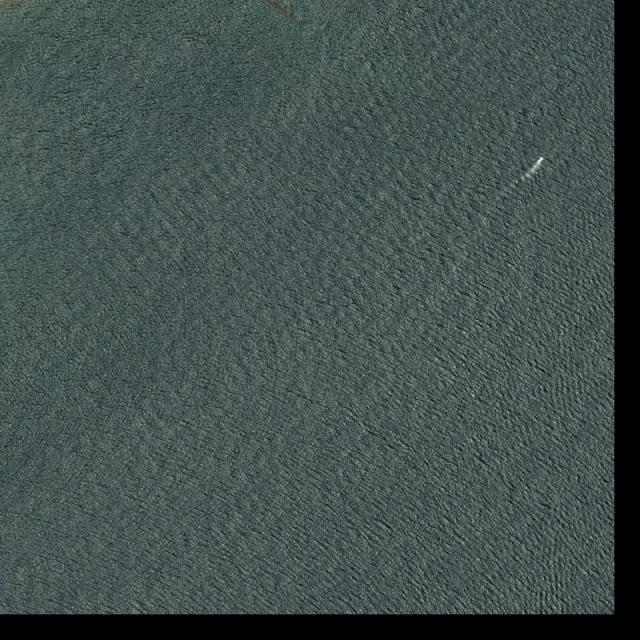ship: (537, 157, 544, 164)
